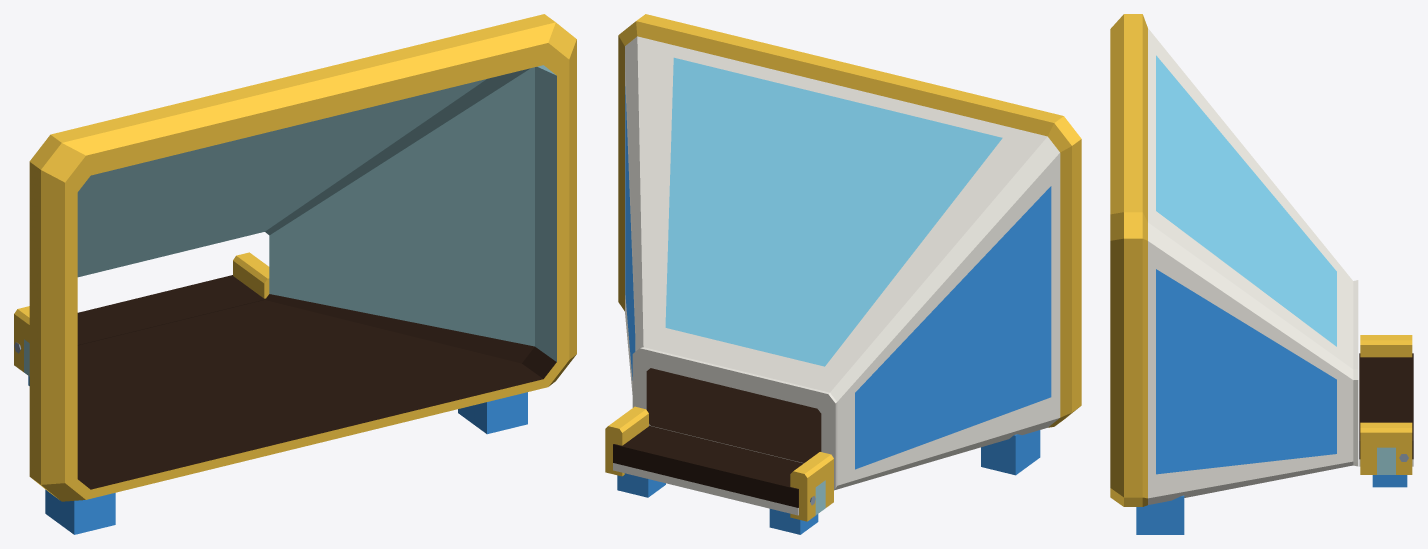
File: TowerAdapter.glb
The picture shows the model from 3 angles, left to right: view 1: azimuth 30°, elevation 25°; view 2: azimuth 150°, elevation 25°; view 3: azimuth 270°, elevation 25°; orthographic projection. The views are drawn at different scales.
Visible parts, largest first — view 1: TowerAdapter; view 2: TowerAdapter; view 3: TowerAdapter.
Boxes of the visible parts, bbox=[...] form: TowerAdapter: bbox=[14, 14, 576, 534]; TowerAdapter: bbox=[605, 14, 1081, 534]; TowerAdapter: bbox=[1110, 14, 1413, 534].
Size of the model in its own units: 1.93 by 1.39 by 1.15.
Materials: 1 (1 with a texture image).
